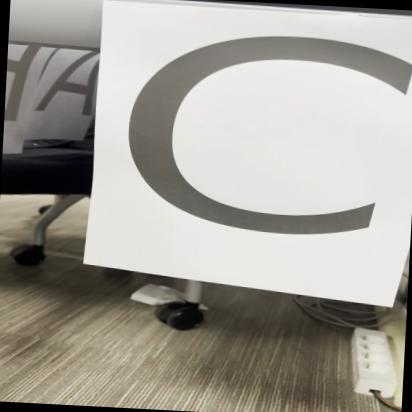seat: (94, 3, 412, 304)
